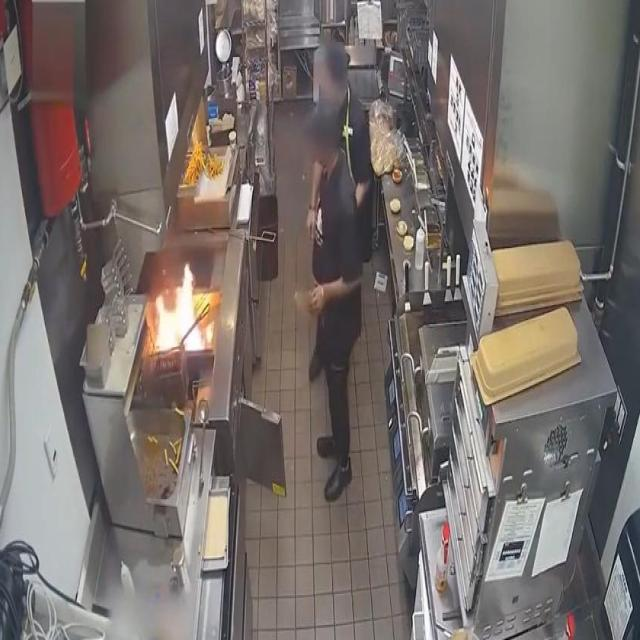smoke: (150, 260, 213, 354)
